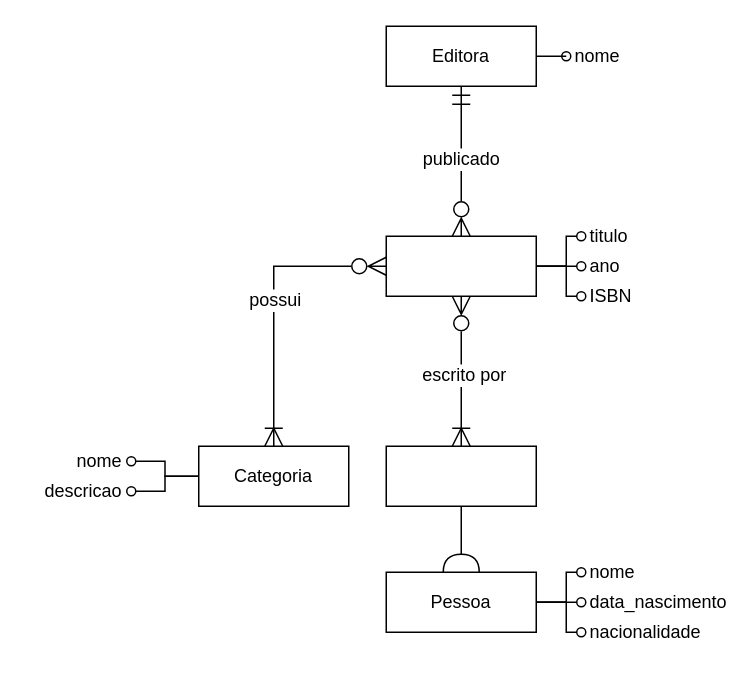
Some shapes in this 756 by 674 pixel diagram are drawn without their labels. The shapes that lost their labels are listed below. From the top down, each one's centre as x and y in pixels, then its label:
the point at 460,265: Livro
the point at 460,475: Autor
